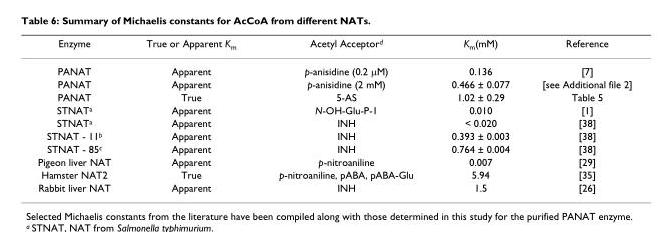table: (36, 36, 631, 193)
table column: (256, 36, 431, 193), (127, 36, 256, 193), (525, 36, 631, 193), (431, 36, 525, 193), (36, 36, 127, 193)
table column header: (36, 36, 631, 57)
table row: (36, 36, 631, 57), (36, 57, 631, 77), (36, 77, 631, 90), (36, 90, 631, 103), (36, 103, 631, 116), (36, 116, 631, 129), (36, 141, 631, 154), (36, 154, 631, 167), (36, 167, 631, 180), (36, 180, 631, 193), (36, 129, 631, 141)
